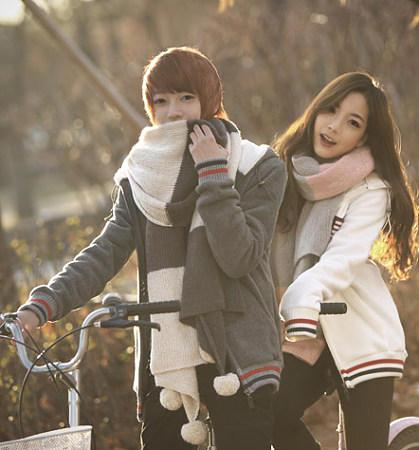NONE: (313, 99, 365, 160)
WRONG: (145, 84, 217, 146)
